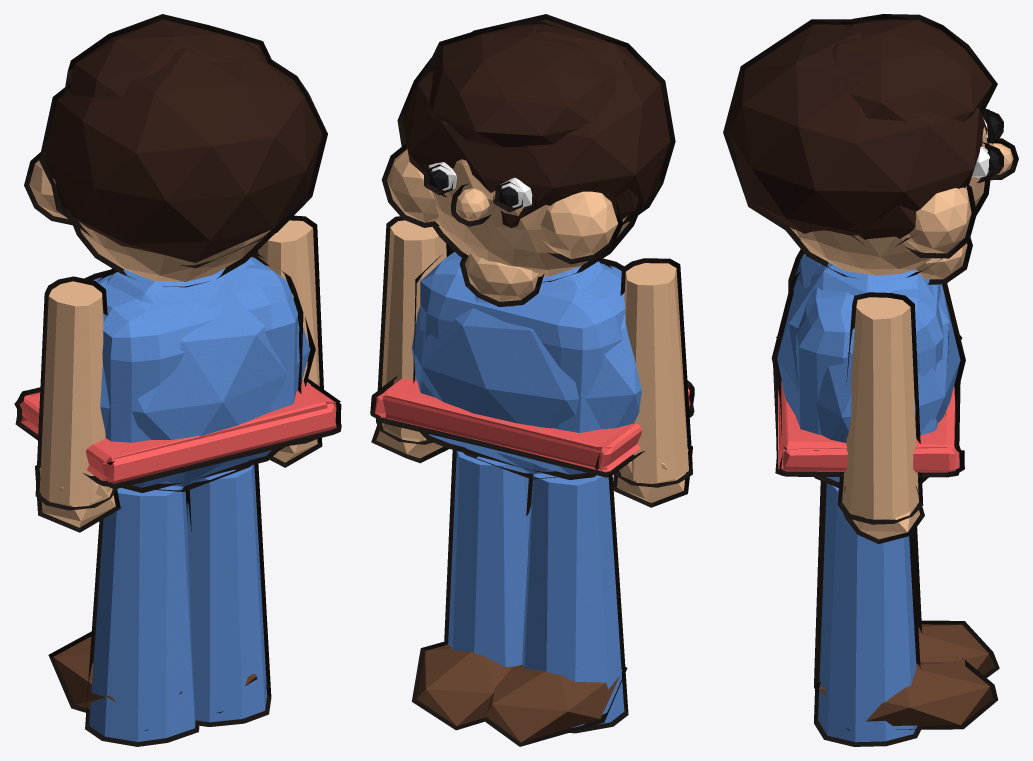
File: wonder_walker_v10.glb
3 views of the same model, side by side, from view 1: azimuth 30°, elevation 25°; view 2: azimuth 150°, elevation 25°; view 3: azimuth 270°, elevation 25° (orthographic).
Parts seen in each view (by area): view 1: WonderWalker_Body, WonderWalker_Body_Outline; view 2: WonderWalker_Body, WonderWalker_Body_Outline; view 3: WonderWalker_Body, WonderWalker_Body_Outline.
Boxes of the visible parts, x1,y1,x2,y2 form: WonderWalker_Body: (19,19,336,741); WonderWalker_Body_Outline: (14,14,341,746); WonderWalker_Body: (375,19,690,742); WonderWalker_Body_Outline: (370,14,694,746); WonderWalker_Body: (728,19,1013,742); WonderWalker_Body_Outline: (723,14,1018,746).
Bounding box in the file's own units: 0.4413 × 0.974 × 0.3814.
8 materials, 8 textured.
